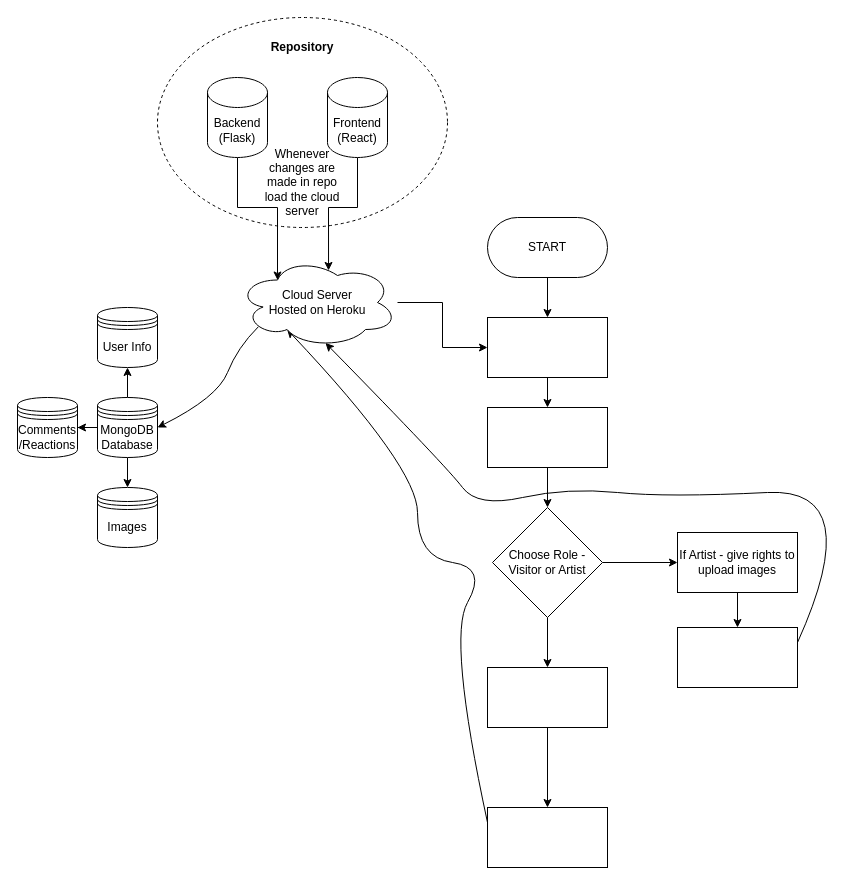
The diagram is 844 pixels wide and 885 high, and some of its shapes have lost their labels. The shapes that lost their labels are listed below. From the top down, each one's centre as x and y in pixels, then its label:
[547,347]: Load the website from cloud Server
[547,437]: Let user Login into the website
[737,657]: Store Images uploaded in Data Base
[547,697]: If visitor - give rights to upvote, comment share images
[547,837]: Store comments and likes in Database
